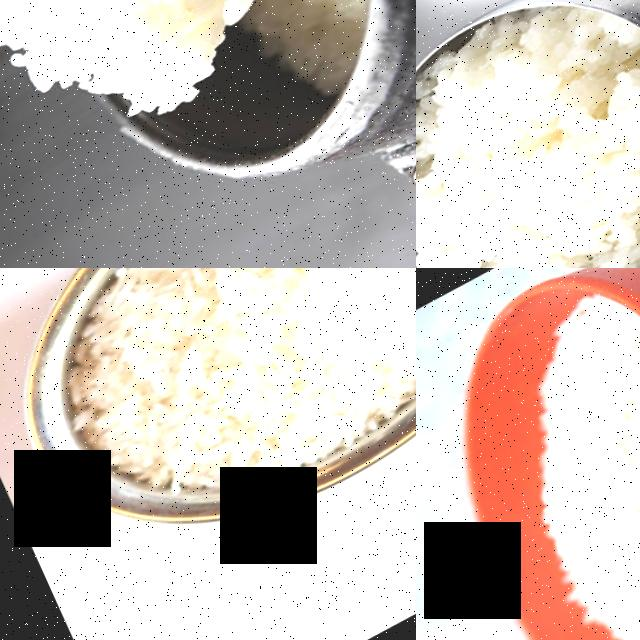white rice: (103, 268, 416, 503), (416, 0, 640, 268), (0, 0, 304, 183), (491, 281, 640, 640)
